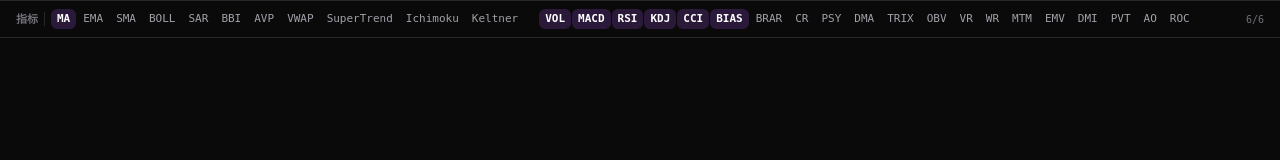
Test: IndicatorBar (single-row layout) › shows inline cap notice when adding 7th subchart
Click the button "WR": click(992, 19) [980,9,1005,29]
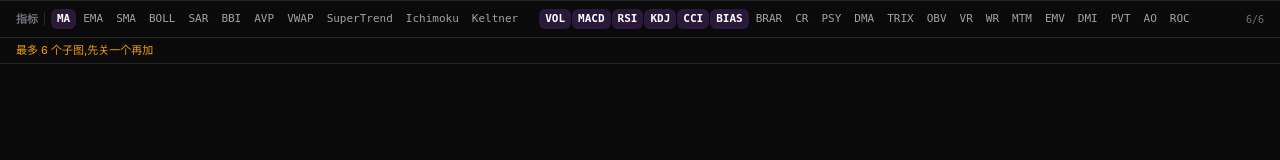
Check: the text "最多 6 个子图,先关一个再加" is shown, box [0,37,1279,62]
